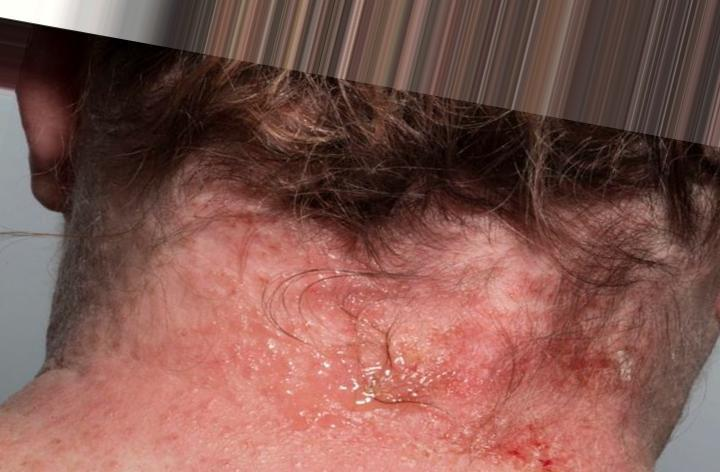Contact Dermatitis: (168, 80, 619, 390)
